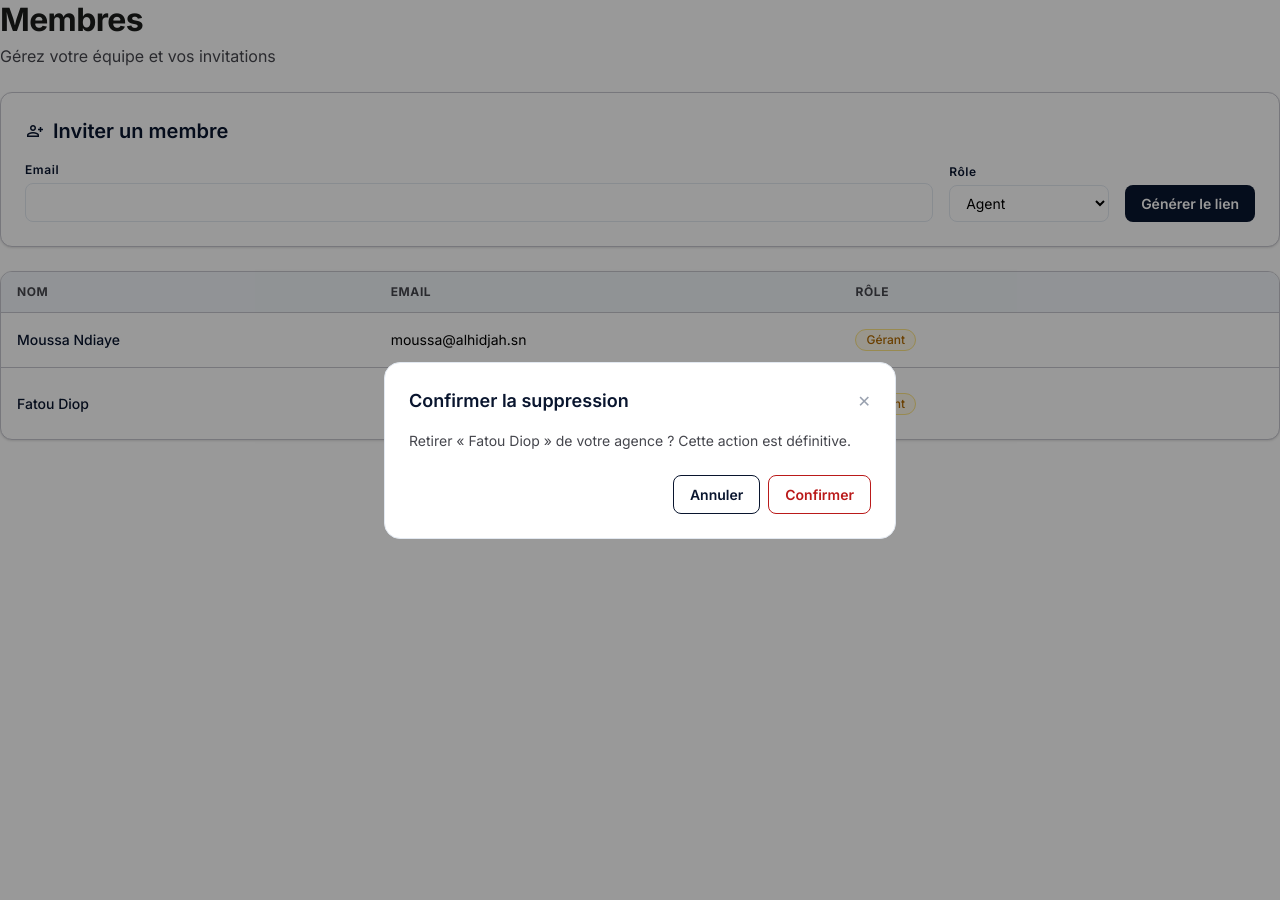
Test case: Membres › supprime le membre après confirmation dans la modale
Earlier steps of the test are not shown.
Click the button "Confirmer". click: (820, 494)
box: [768,474,871,514]
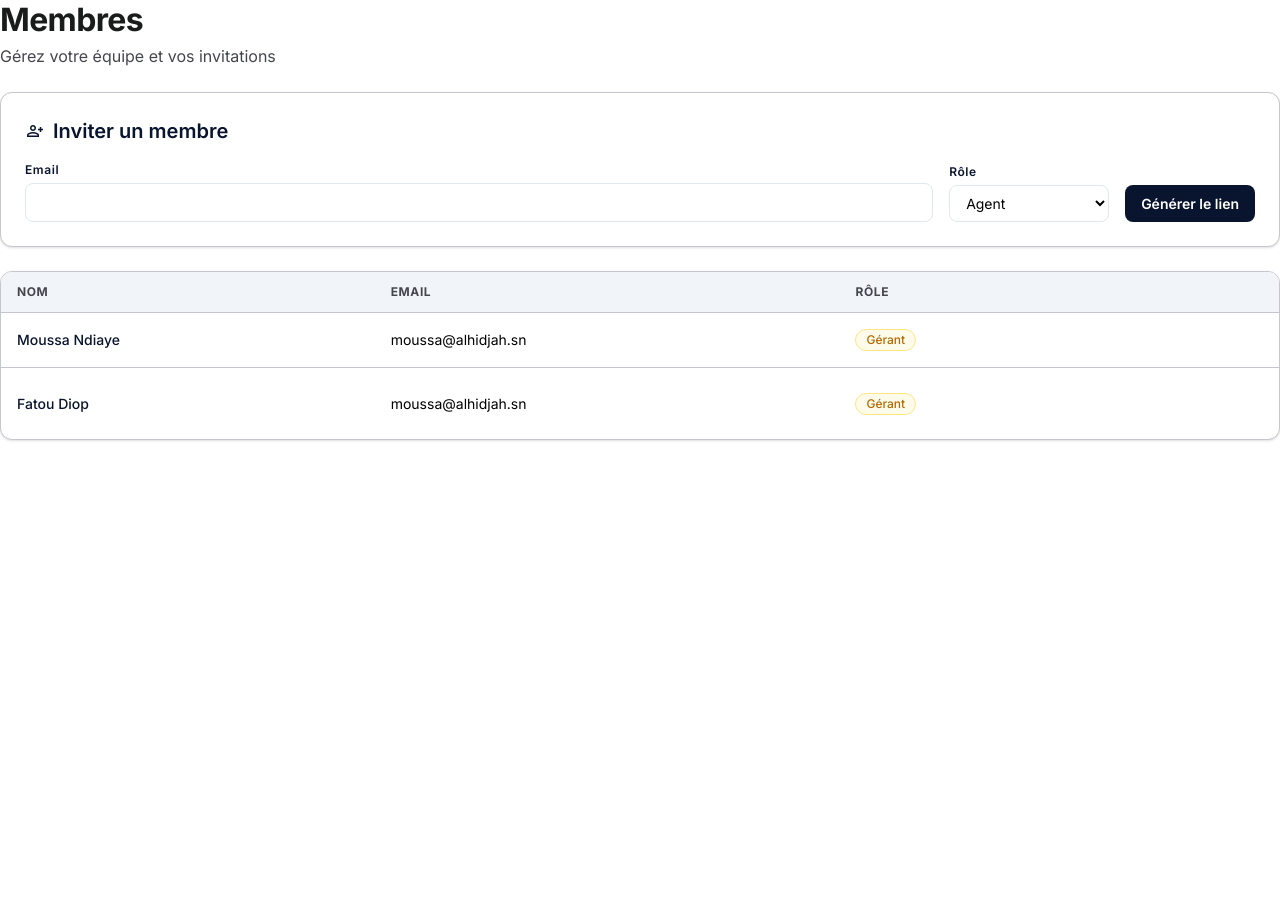
Expected: the text "Retirer « Fatou Diop » de votre agence" is gone
